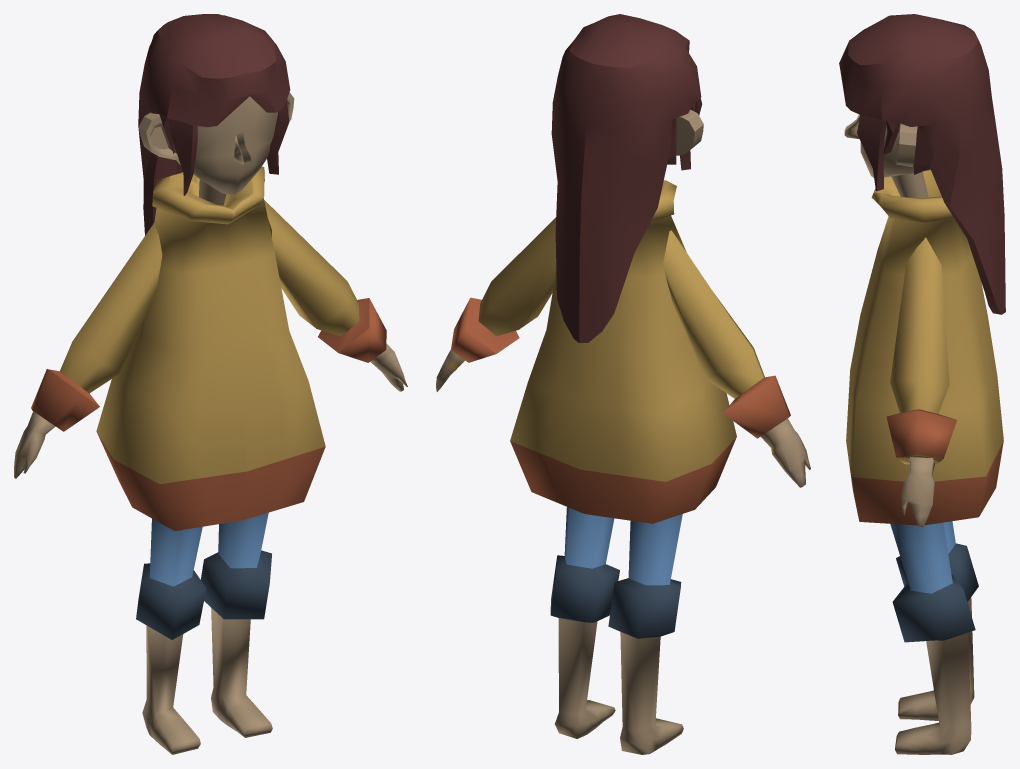
Rendered from character.fbx.
The picture shows the model from 3 angles, left to right: view 1: azimuth 30°, elevation 25°; view 2: azimuth 150°, elevation 25°; view 3: azimuth 270°, elevation 25°; orthographic projection.
Visible parts, largest first — view 1: Cube, Cylinder, Cylinder.001, Cube.003, Cube.001, Cube.002; view 2: Cube, Cube.003, Cylinder, Cylinder.001, Cube.002; view 3: Cube, Cube.003, Cylinder, Cylinder.001, Cube.001, Cube.002, Cylinder.002.
Boxes of the visible parts, <box> form: Cube: <box>96,166,325,530</box>; Cylinder: <box>136,512,272,754</box>; Cylinder.001: <box>14,200,407,478</box>; Cube.003: <box>138,14,290,235</box>; Cube.001: <box>176,96,277,194</box>; Cube.002: <box>138,92,294,159</box>; Cube: <box>510,180,736,523</box>; Cube.003: <box>551,14,702,342</box>; Cylinder: <box>550,507,683,754</box>; Cylinder.001: <box>436,217,810,487</box>; Cube.002: <box>676,109,703,155</box>; Cube: <box>846,170,1003,525</box>; Cube.003: <box>839,14,1005,314</box>; Cylinder: <box>890,521,978,754</box>; Cylinder.001: <box>886,237,956,527</box>; Cube.001: <box>844,114,930,177</box>; Cube.002: <box>895,124,917,166</box>; Cylinder.002: <box>891,171,928,198</box>.
Size of the model in its own units: 220 by 394 by 83.96.
